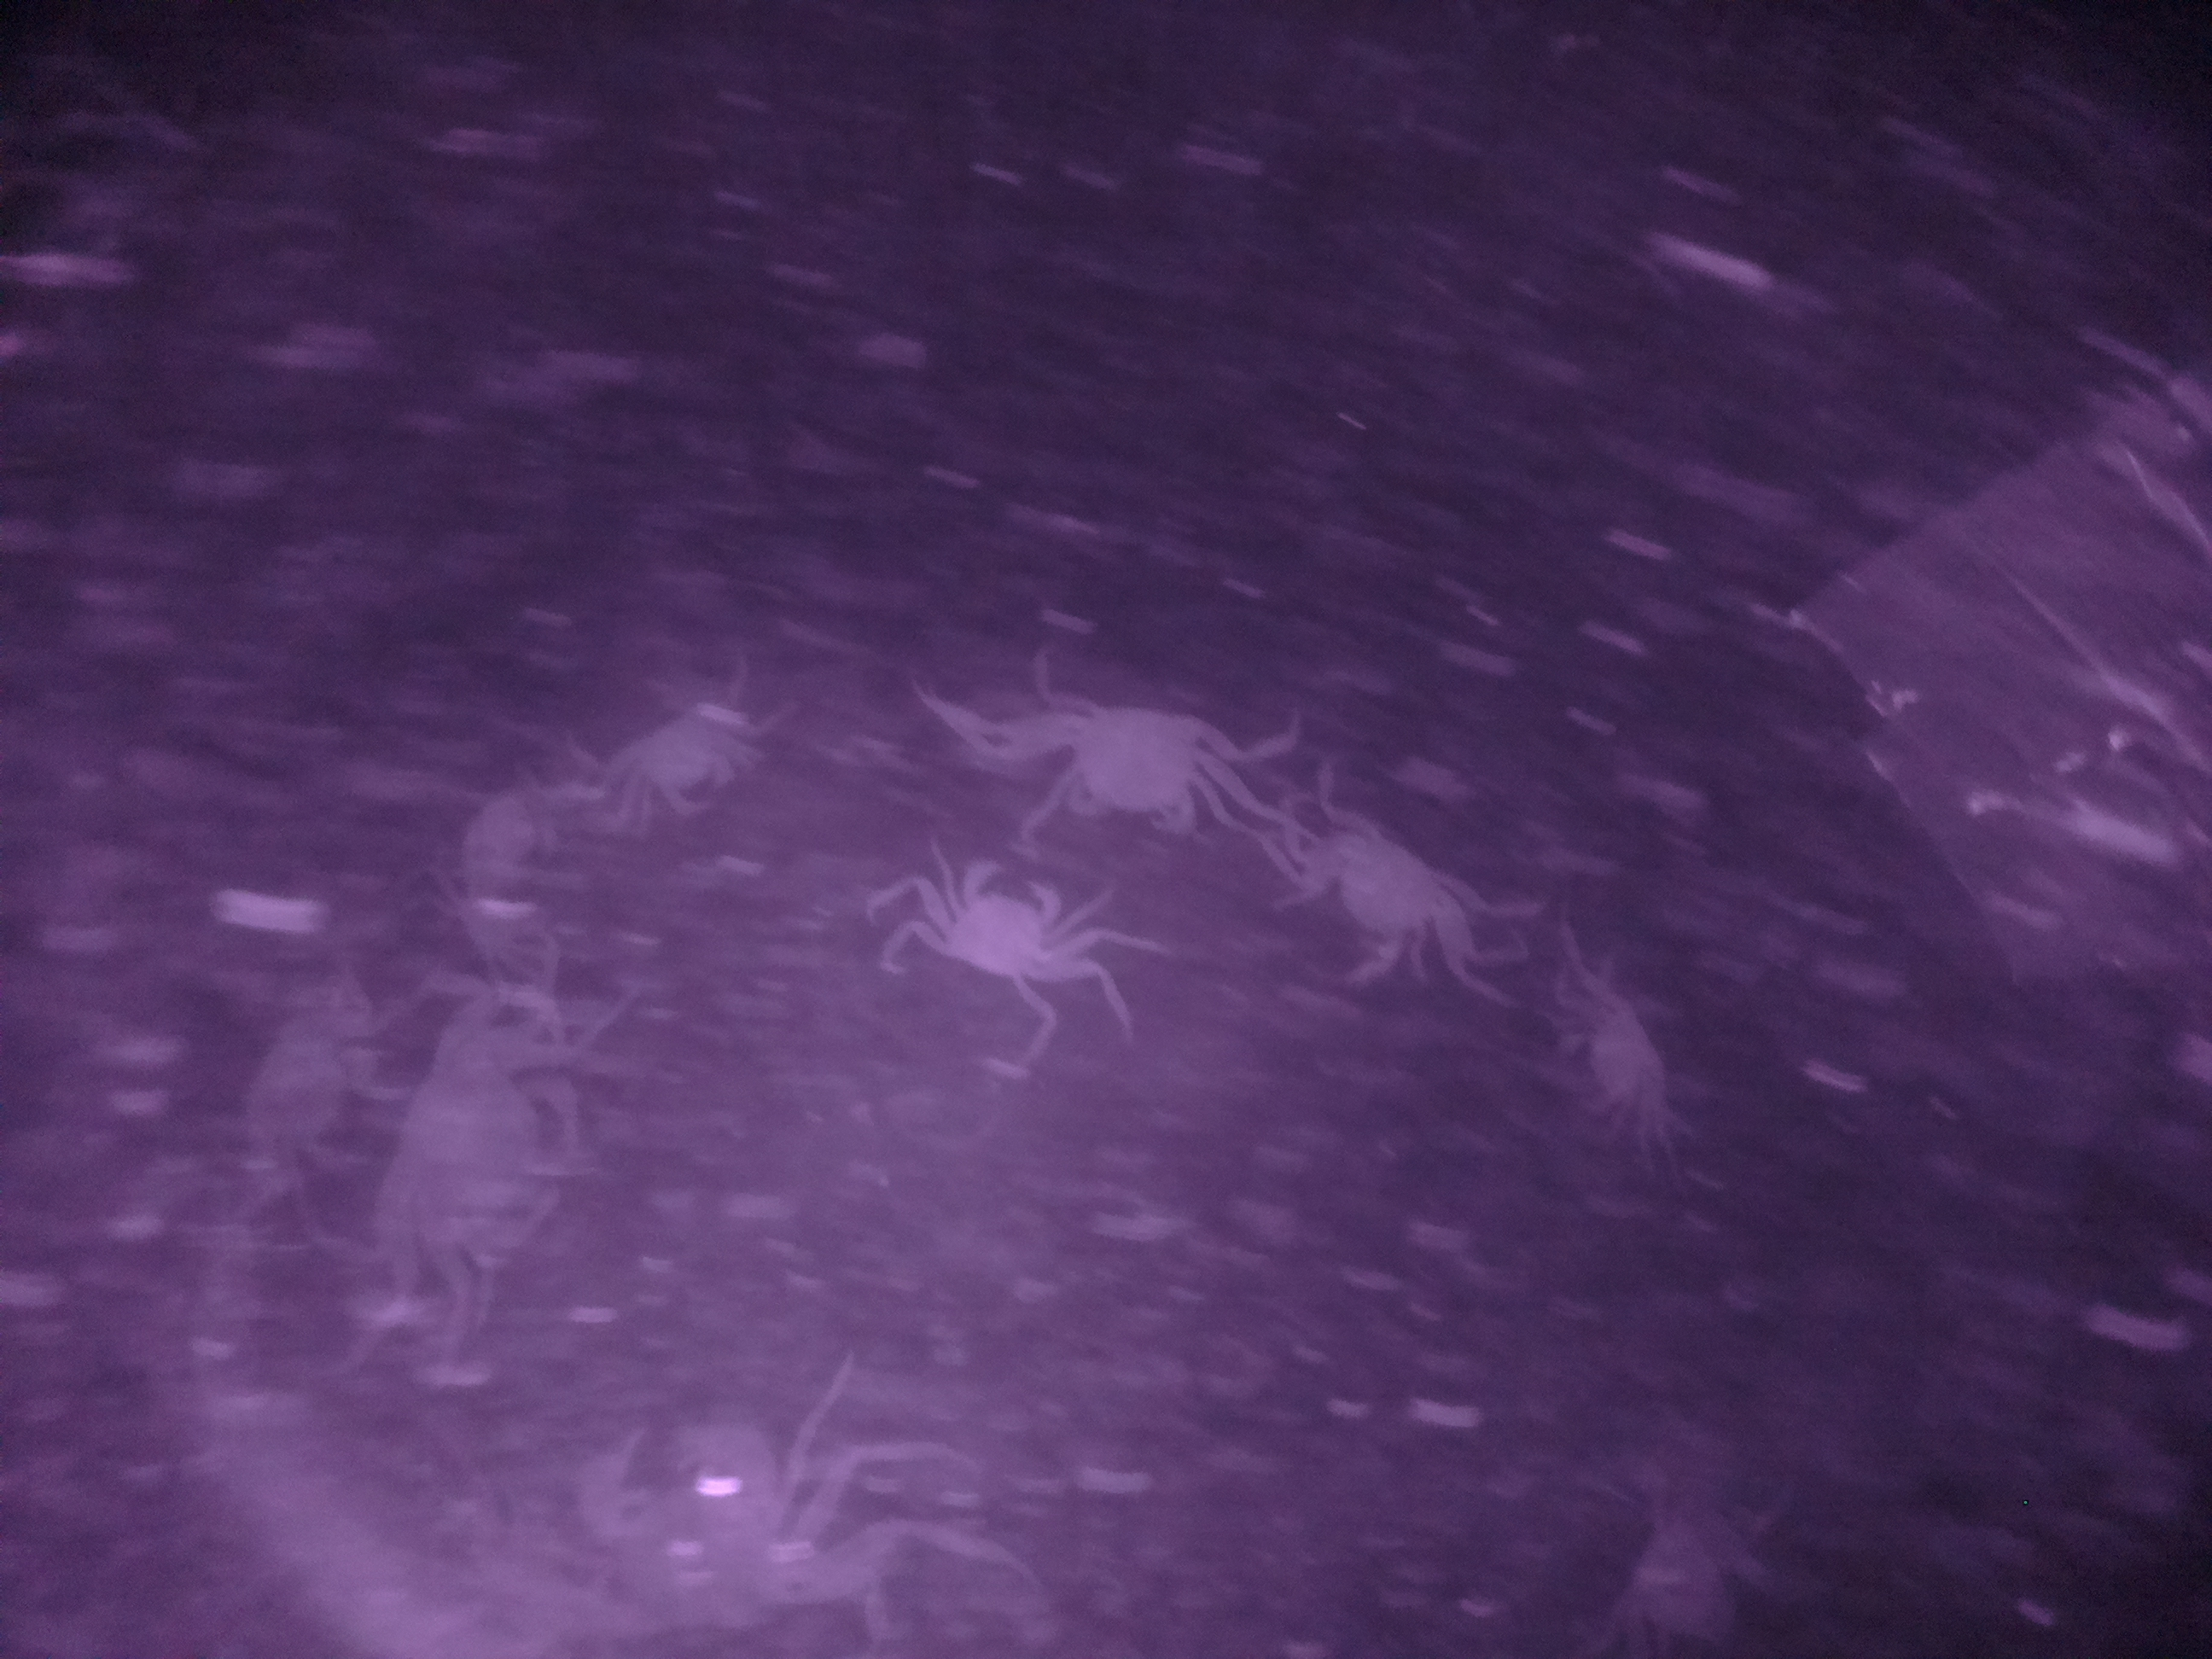Crab: (1277, 800, 1512, 993), (1007, 683, 1263, 833), (895, 854, 1092, 999)
